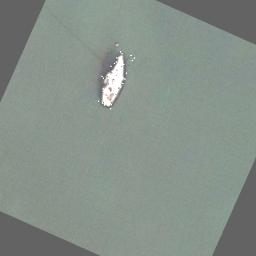boat: (90, 48, 134, 110)
